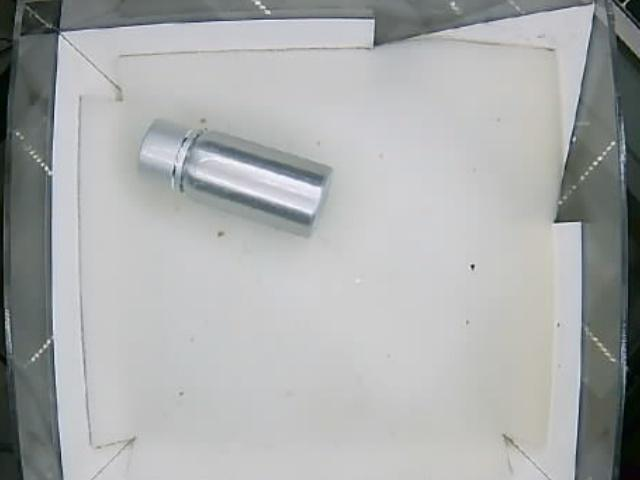Bottle: (137, 116, 331, 241)
